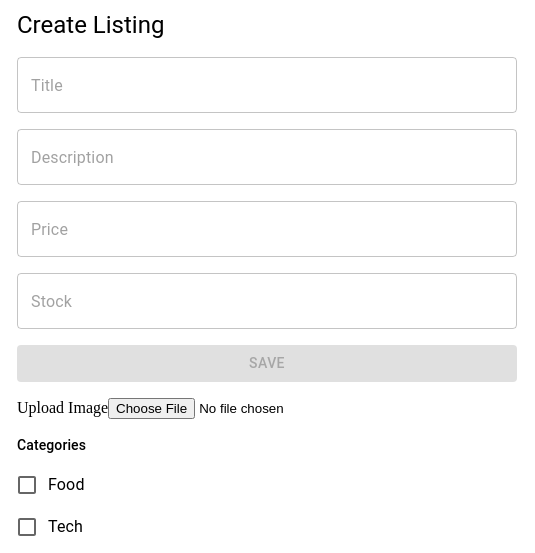
Test: Create Listing Form › submit button enabled when fields filled
The image size is (535, 553).
Type "Widget" into the field with placeholder "Title" at (267, 85), box [17,57,517,113]
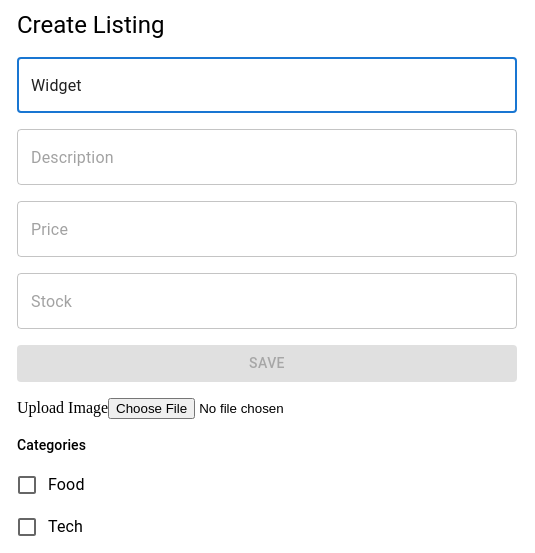
Type "A widget" into the field with placeholder "Description" at (267, 157), box [17,129,517,185]
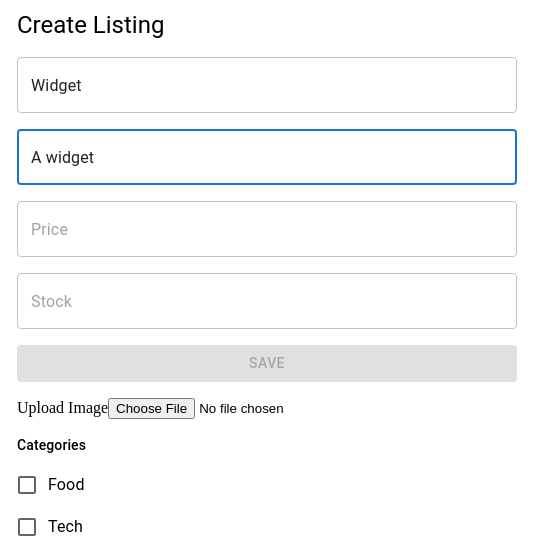
Type "9.99" into the number field with placeholder "Price" at (267, 229), box [17,201,517,257]
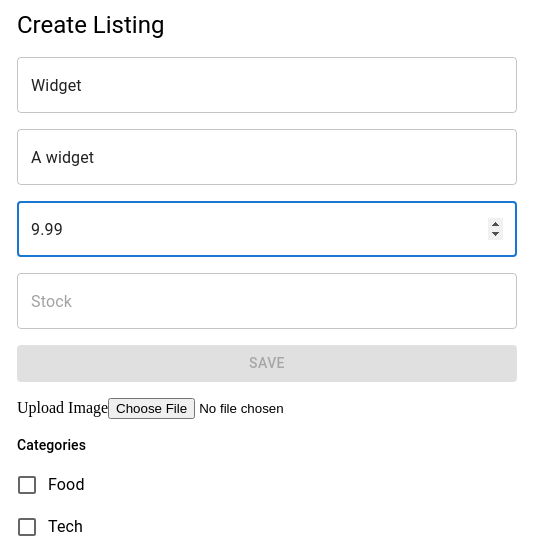
Type "5" into the number field with placeholder "Stock" at (267, 301), box [17,273,517,329]
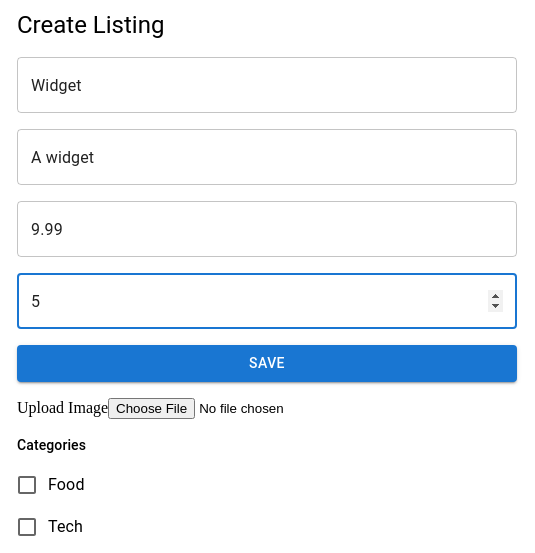
Result: the button "Save" is enabled at [17,345,517,382]
